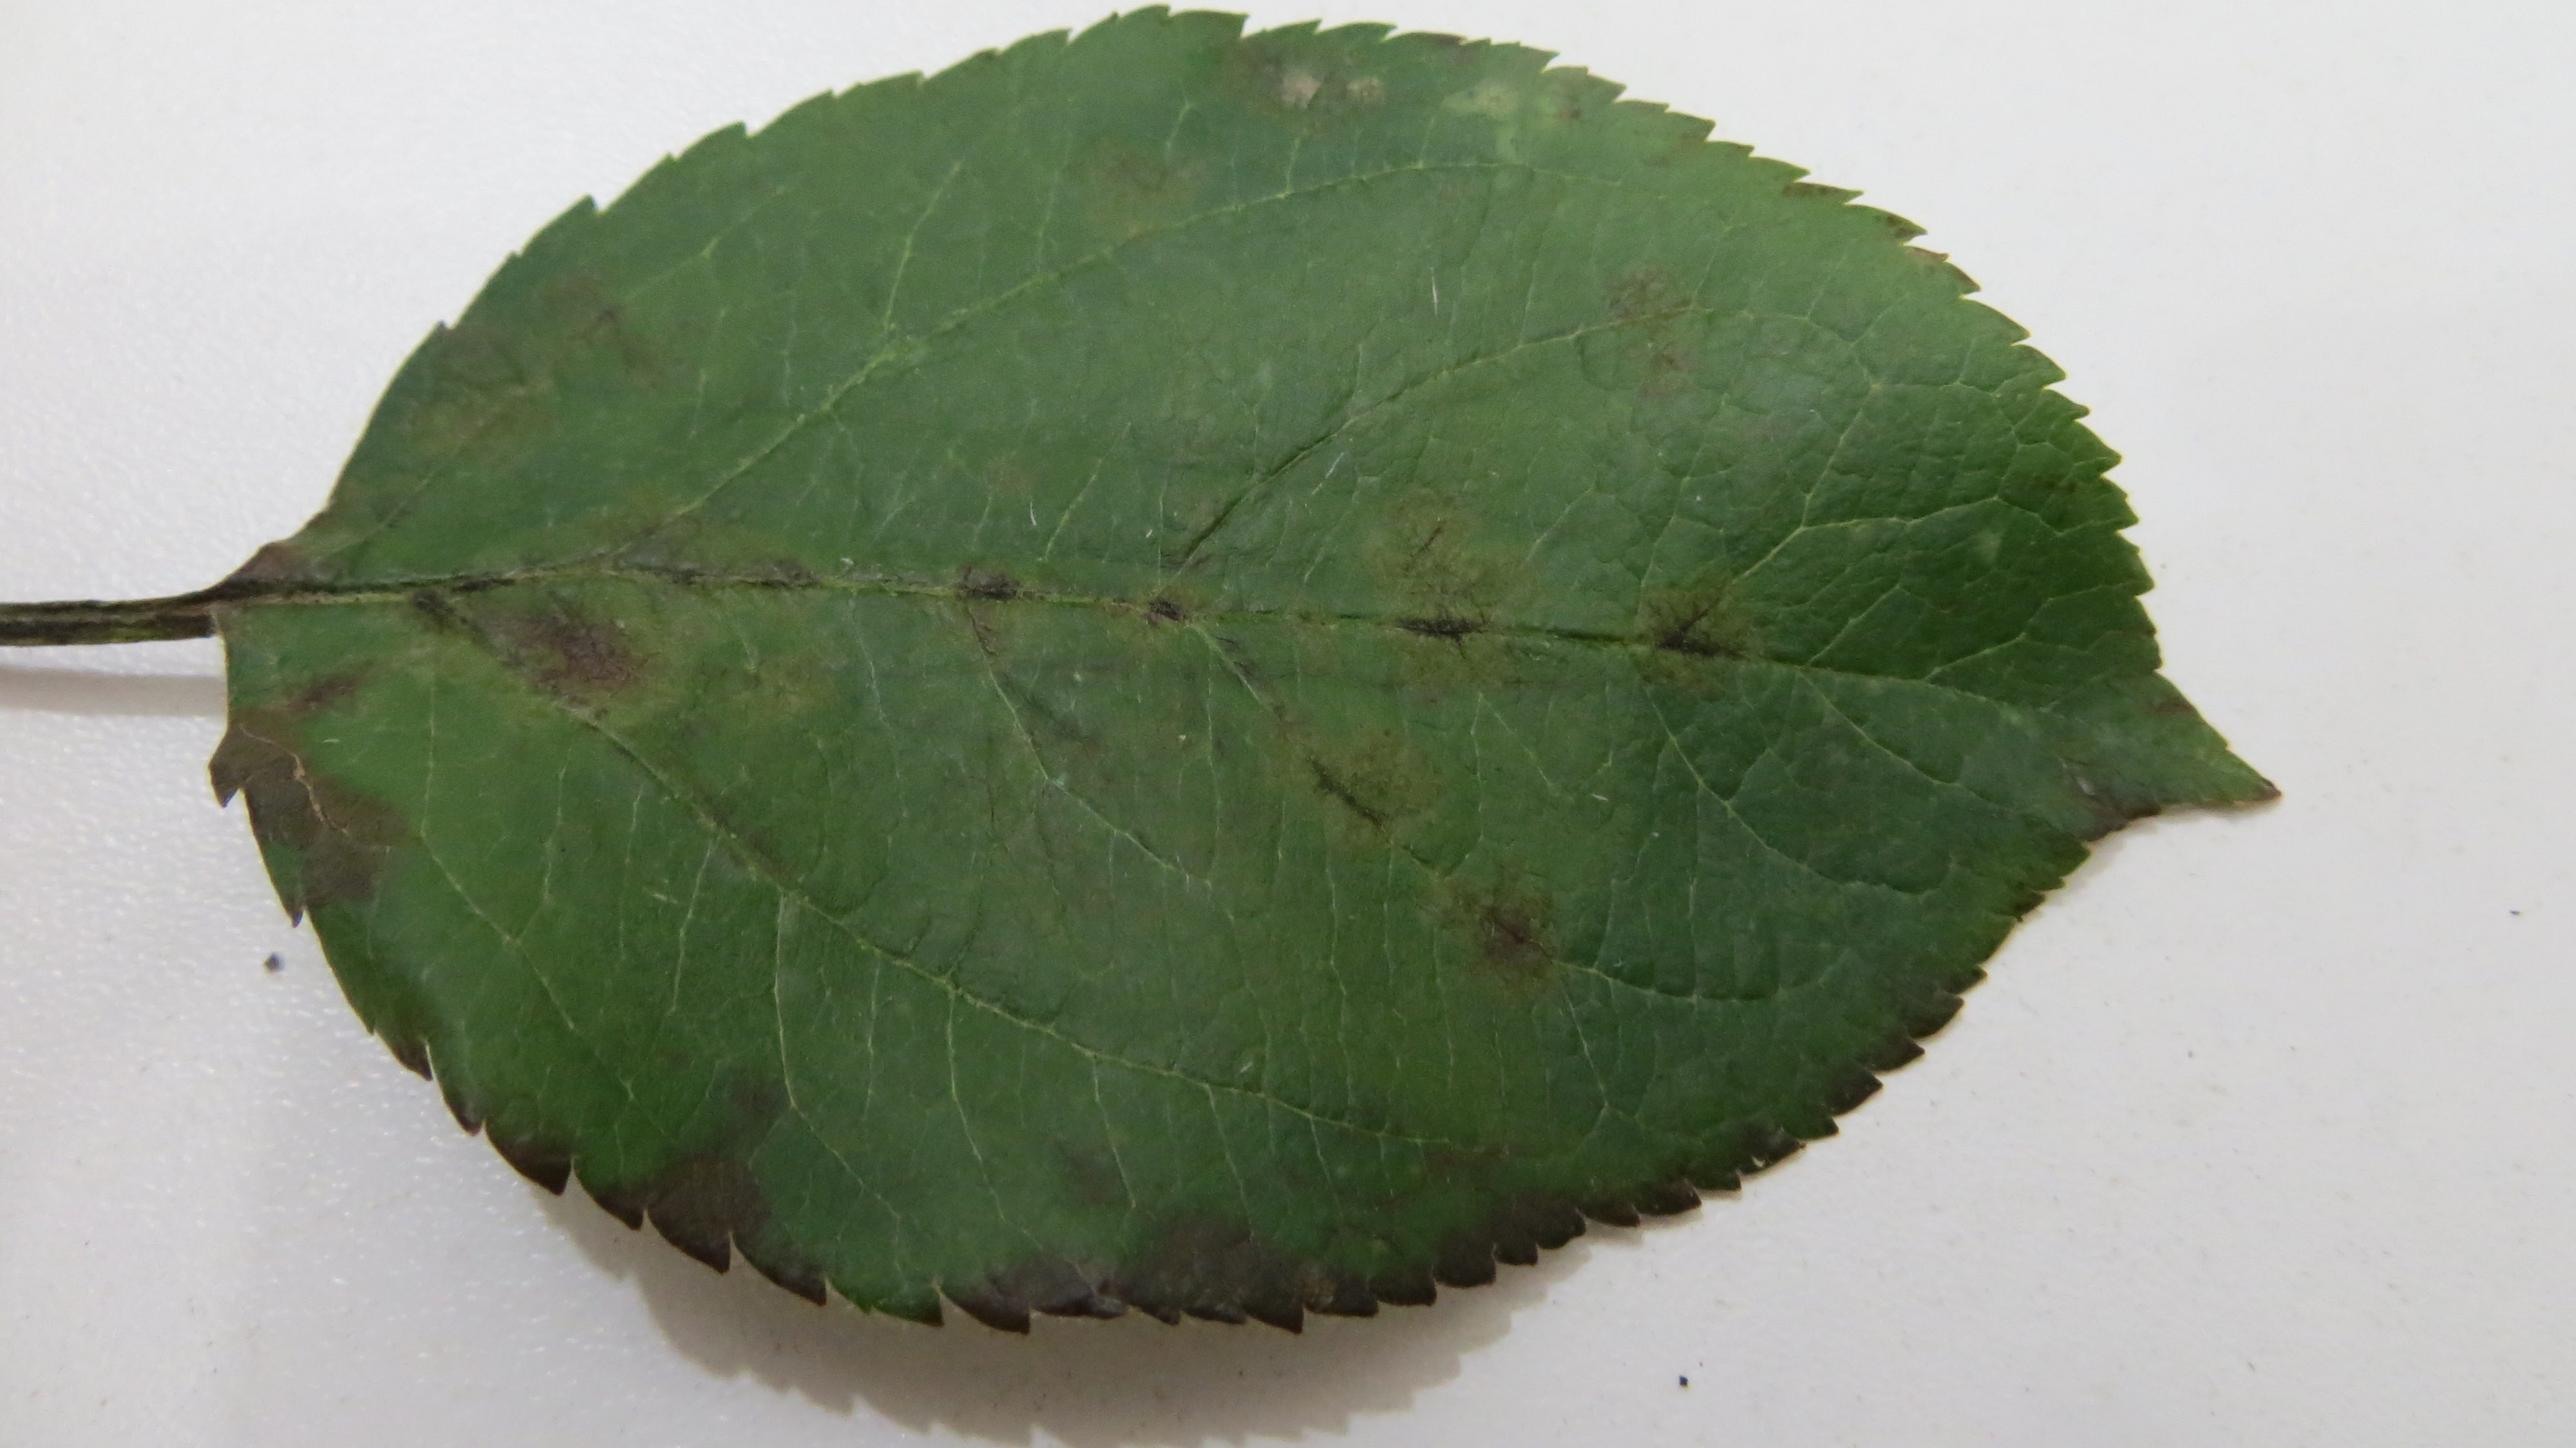sarna: (209, 644, 410, 915), (1382, 494, 1552, 687), (395, 306, 571, 487), (478, 584, 678, 733), (1136, 1190, 1325, 1335), (607, 1140, 789, 1287), (543, 255, 701, 414), (1288, 713, 1458, 859), (1431, 846, 1589, 1002), (1582, 253, 1720, 416), (1626, 566, 1776, 703), (211, 519, 373, 639), (954, 1228, 1134, 1326), (607, 508, 747, 623), (736, 524, 872, 635), (734, 628, 867, 729), (1106, 565, 1233, 669), (939, 556, 1067, 651), (702, 1032, 801, 1147), (1054, 1140, 1162, 1227), (1405, 1117, 1507, 1191)
